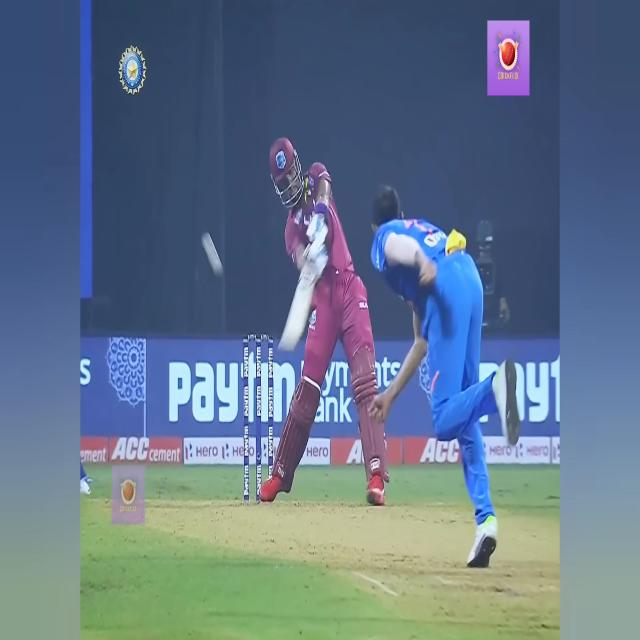partially_visible: (164, 346, 302, 431)
